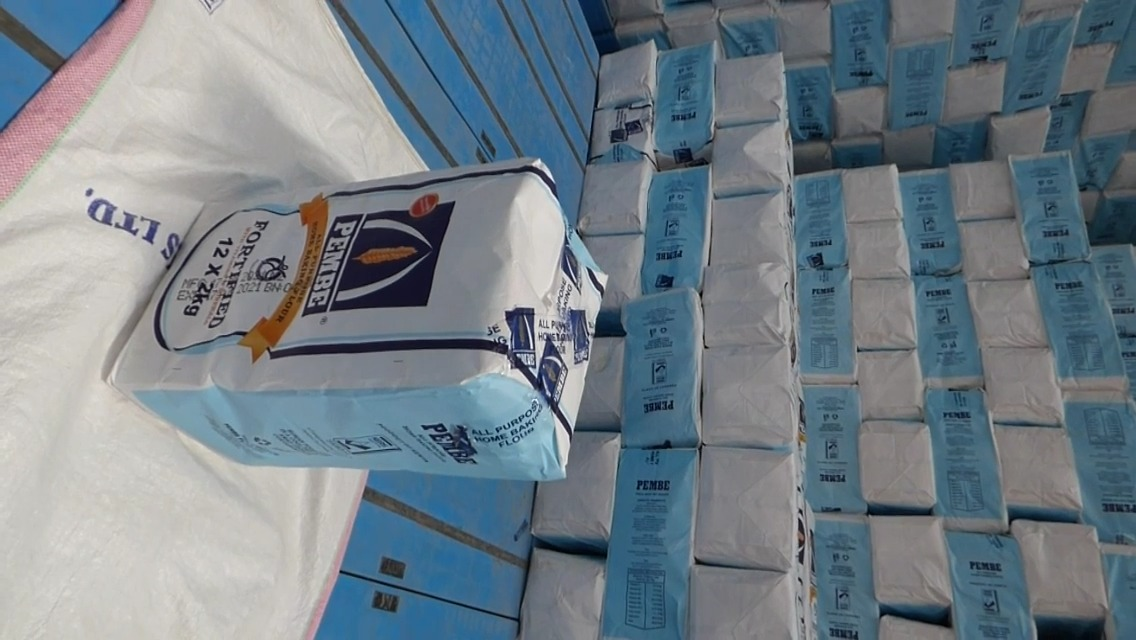wheat_flour_blue_label: (113, 159, 611, 488)
